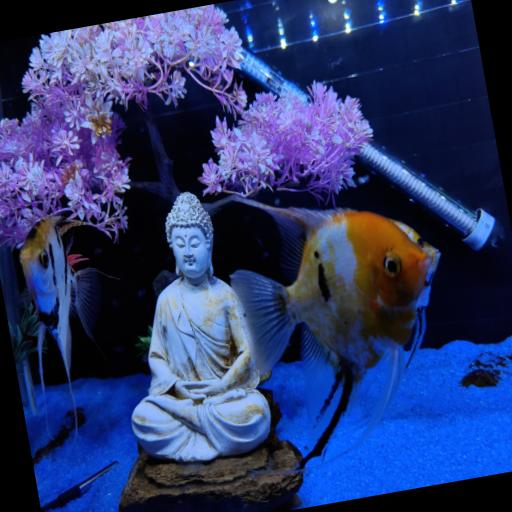Fish: (230, 198, 437, 466), (19, 216, 100, 413)
